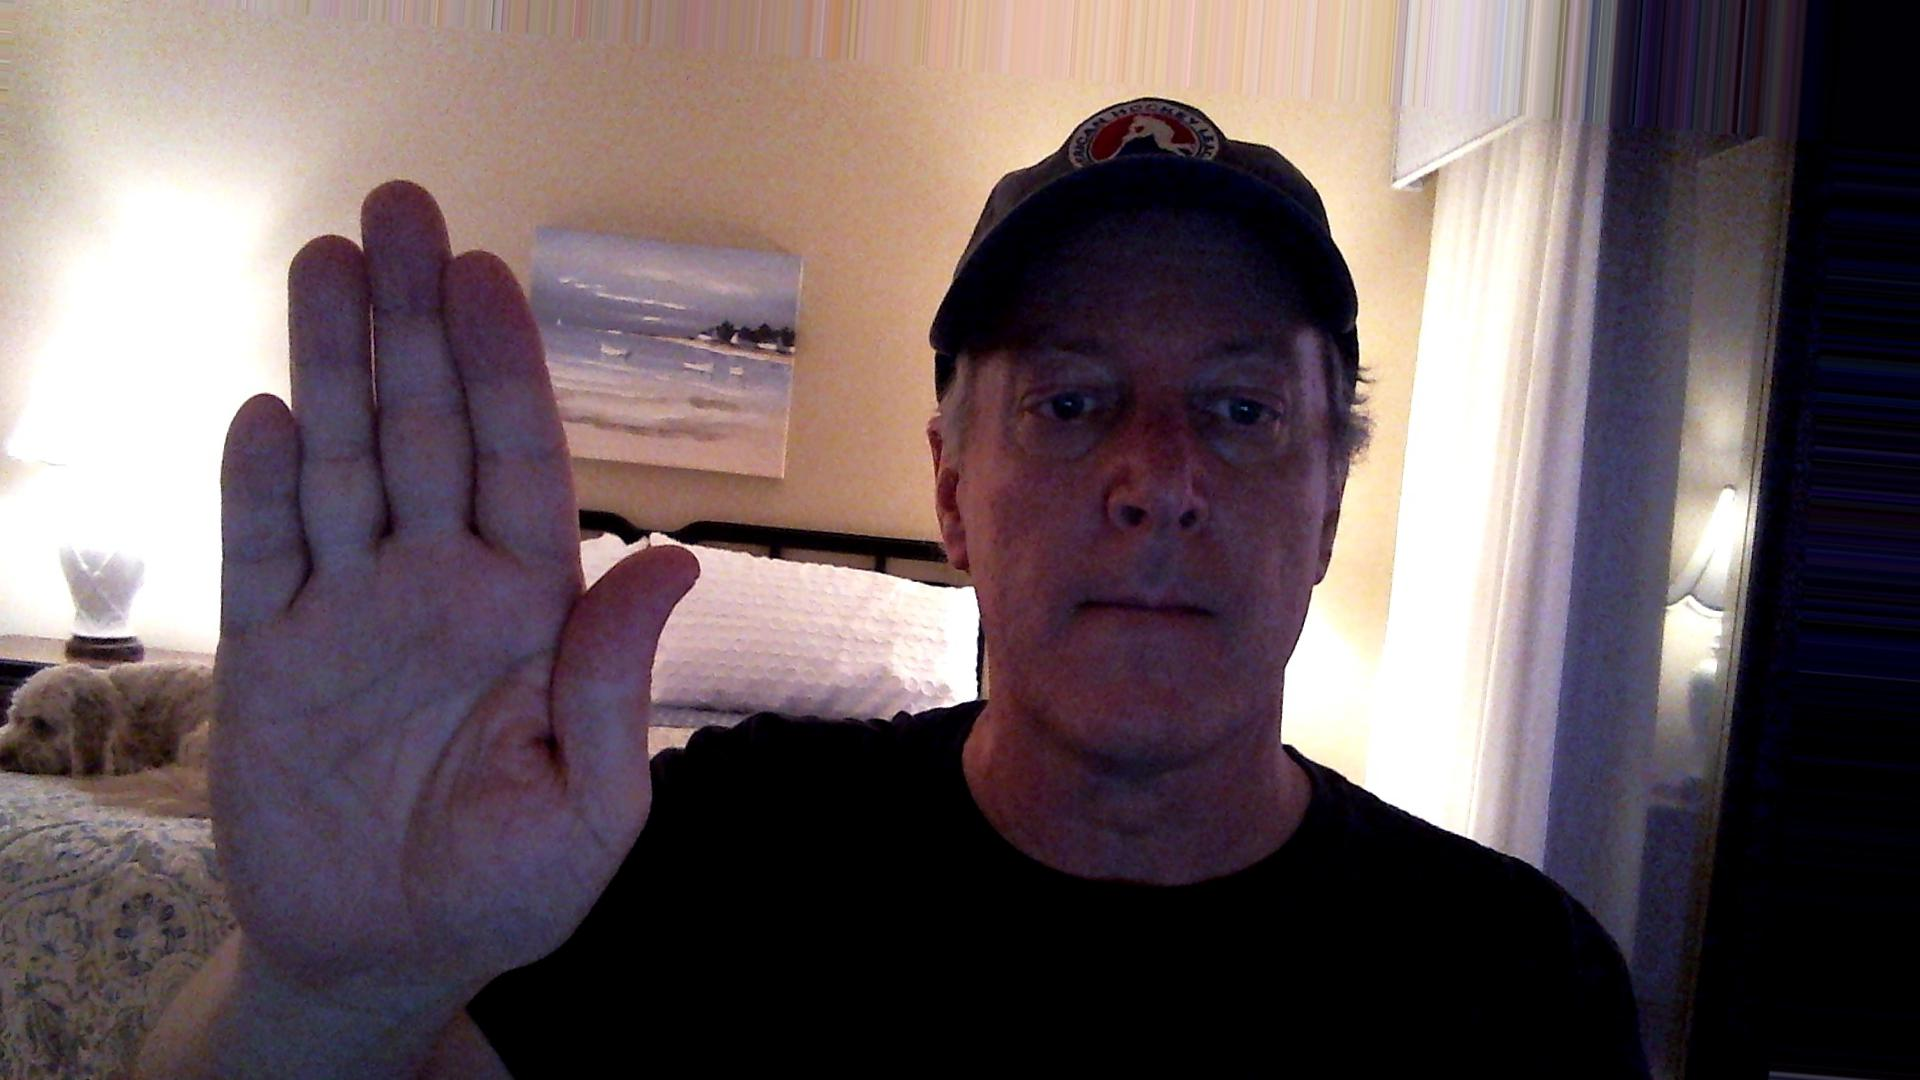Hello: (187, 152, 709, 1015)
